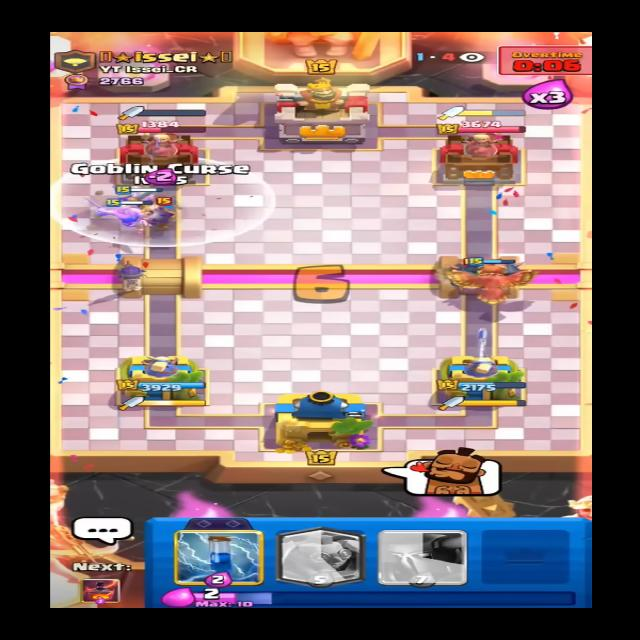knight: (136, 192, 198, 237)
pekka: (449, 246, 531, 283)
